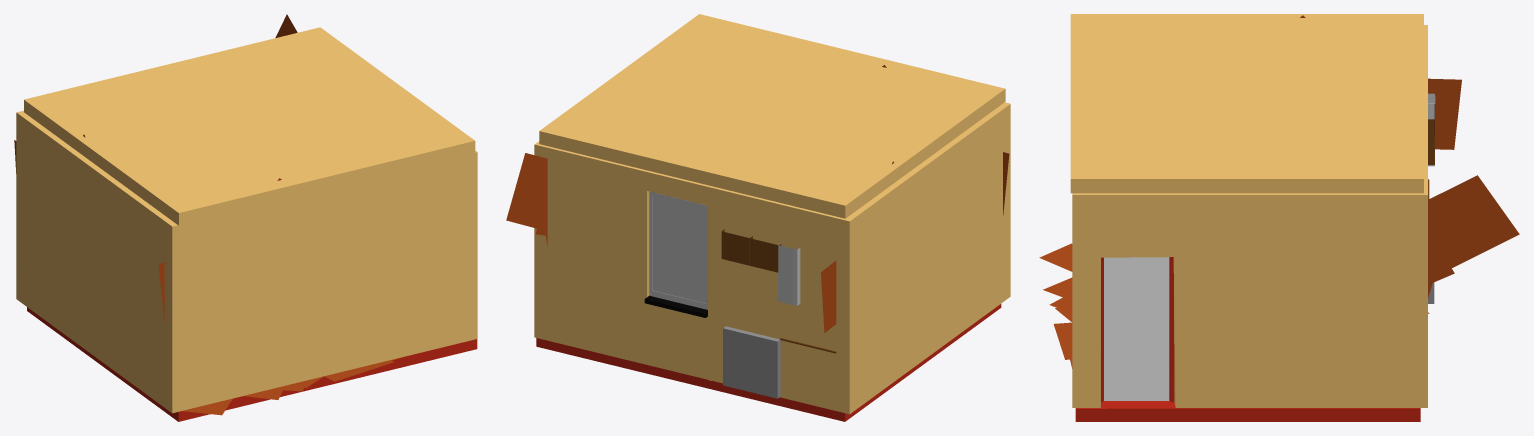
Rendered from FloorPlan23_physics.fbx.
3 views of the same model, side by side, from view 1: azimuth 30°, elevation 25°; view 2: azimuth 150°, elevation 25°; view 3: azimuth 270°, elevation 25° (orthographic). The views are drawn at different scales.
Parts seen in each view (by area): view 1: Sphere.029, Sphere.028, Sphere.030, Decals.010, Decals.009; view 2: Sphere.029, Sphere.028, WindowPane, Sphere.030, Cube.361, Decals.014, WindowFrame, Cube.363, Cube.346, Decals.012; view 3: Sphere.029, Sphere.028, Door, Decals.014, Sphere.030, Decals.012, DoorFrame, Decals.010, Decals.009.
Boxes of the visible parts, x1,y1,x2,y2 form: Sphere.029: (16,110,477,413); Sphere.028: (24,27,475,225); Sphere.030: (27,307,477,421); Decals.010: (182,380,306,415); Decals.009: (304,356,405,387); Sphere.029: (534,102,1010,414); Sphere.028: (539,14,1005,218); WindowPane: (653,196,706,303); Sphere.030: (536,304,1001,421); Cube.361: (723,326,780,398); Decals.014: (506,153,547,246); WindowFrame: (644,191,707,317); Cube.363: (721,229,781,272); Cube.346: (778,243,800,305); Decals.012: (821,161,894,332); Sphere.029: (1072,25,1427,407); Sphere.028: (1070,14,1423,193); Door: (1104,257,1169,400); Decals.014: (1428,175,1519,297); Sphere.030: (1075,400,1420,421); Decals.012: (1300,15,1461,149); DoorFrame: (1101,257,1174,402); Decals.010: (1039,243,1072,312); Decals.009: (1053,308,1072,368).
Size of the model in its own units: 512 by 334 by 597.
